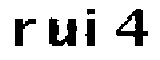4: (115, 4, 149, 50)
i: (83, 6, 104, 52)
r: (13, 16, 39, 51)
u: (46, 15, 78, 50)
